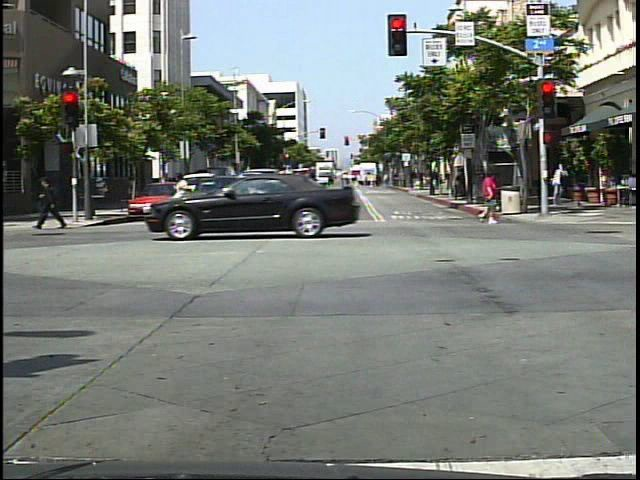person: (33, 169, 70, 235), (470, 170, 506, 232), (170, 170, 204, 235), (549, 160, 571, 206)
